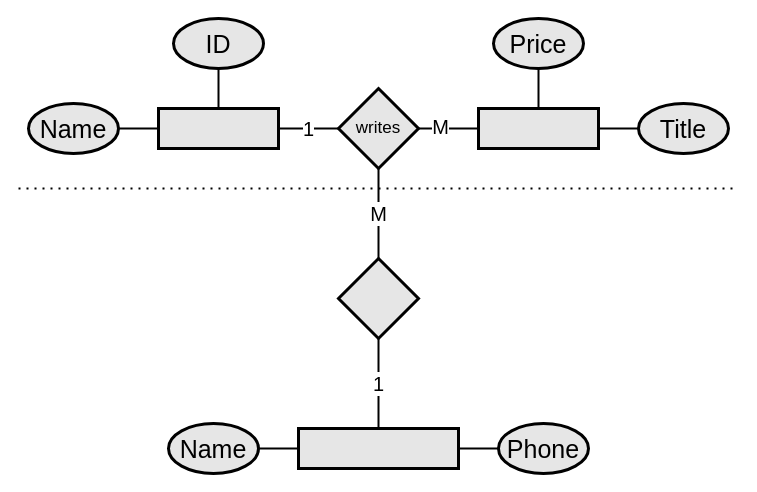
Some shapes in this 757 by 492 pixel diagram are drawn without their labels. Each missing label, with the centre of its shape:
"Author" goes at (218,128).
"Books" goes at (538,128).
"published by" goes at (378,298).
"Publisher" goes at (378,448).
